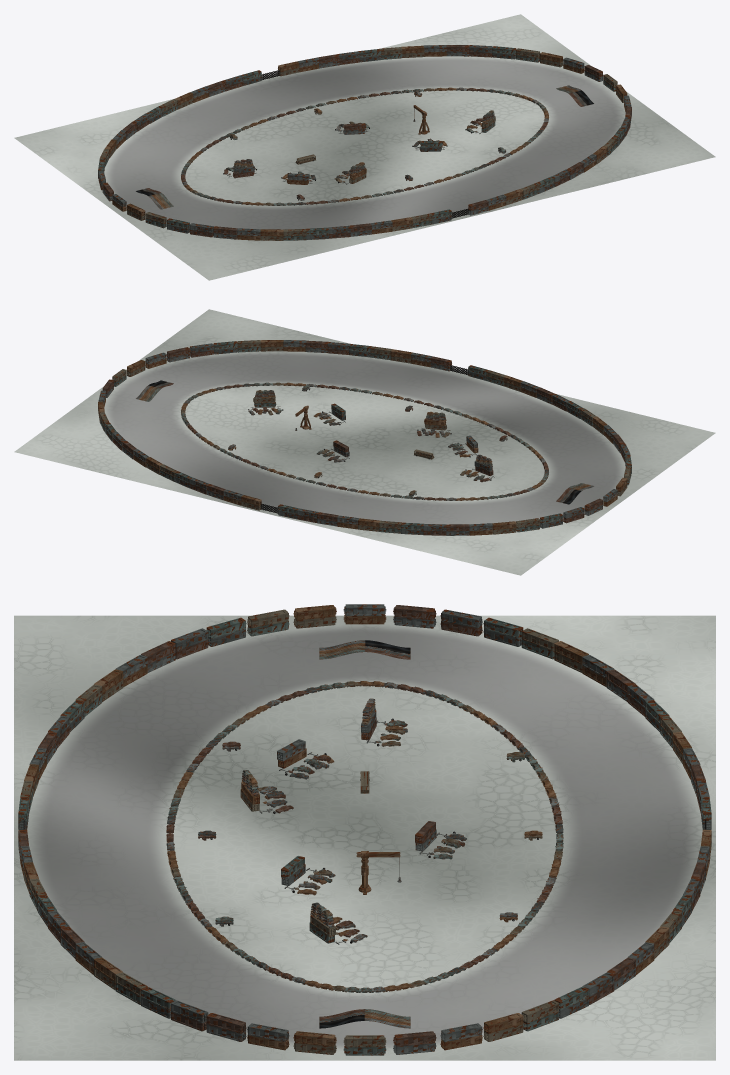
Rendered from venue.glb.
3 renders of one model, top to bottom at view 1: azimuth 30°, elevation 25°; view 2: azimuth 150°, elevation 25°; view 3: azimuth 270°, elevation 25°, orthographic. The views are drawn at different scales.
Visible parts, largest first — view 1: salt-flats-ground, inner-island-salvage; view 2: salt-flats-ground, inner-island-salvage; view 3: salt-flats-ground, inner-island-salvage, salt-ramp-2, salt-ramp-1, container-boundary-2, container-boundary-64, container-boundary-32, container-boundary-34, container-boundary-31, container-boundary-35, container-boundary-3, container-boundary-63 (+10 smaller).
Part boxes in pixels (box(x1,y1,x2,y2)): salt-flats-ground: box(14, 14, 715, 280); inner-island-salvage: box(223, 110, 495, 184); salt-flats-ground: box(14, 309, 715, 575); inner-island-salvage: box(248, 390, 494, 482); salt-flats-ground: box(14, 615, 715, 1060); inner-island-salvage: box(240, 698, 466, 944); salt-ramp-2: box(319, 640, 410, 659); salt-ramp-1: box(319, 1009, 410, 1028); container-boundary-2: box(293, 1031, 336, 1054); container-boundary-64: box(393, 1031, 436, 1054); container-boundary-32: box(293, 605, 336, 628); container-boundary-34: box(393, 605, 436, 628); container-boundary-31: box(247, 609, 289, 636); container-boundary-35: box(440, 609, 482, 636); container-boundary-3: box(247, 1023, 289, 1050); container-boundary-63: box(440, 1023, 482, 1050).
Size of the model in its own units: 300 by 12 by 200.
Materials: 2 (2 with a texture image).
